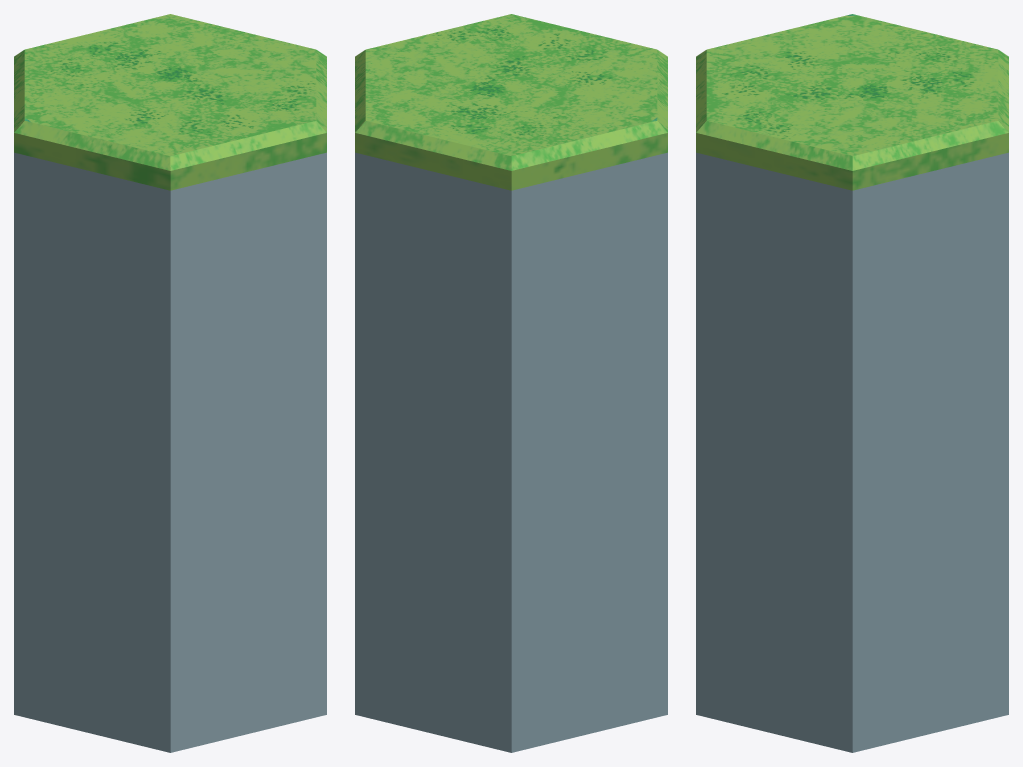
Rendered from TerrainLight.fbx.
3 renders of one model, left to right at view 1: azimuth 30°, elevation 25°; view 2: azimuth 150°, elevation 25°; view 3: azimuth 270°, elevation 25°, orthographic.
Parts seen in each view (by area): view 1: TerrainLight_LOD0; view 2: TerrainLight_LOD0; view 3: TerrainLight_LOD0.
Boxes of the visible parts, x1,y1,x2,y2 form: TerrainLight_LOD0: [14, 14, 326, 752]; TerrainLight_LOD0: [355, 14, 667, 752]; TerrainLight_LOD0: [696, 14, 1008, 752].
Size of what is drawn, in the model's own units: 500 by 904 by 433.
